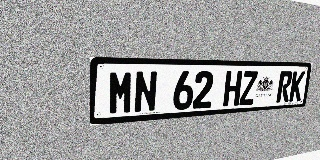2: (193, 71, 214, 109)
6: (173, 71, 195, 110)
H: (223, 71, 243, 107)
K: (289, 71, 305, 102)
M: (108, 71, 134, 115)
N: (134, 71, 158, 113)
R: (276, 71, 293, 103)
Z: (239, 71, 258, 105)
